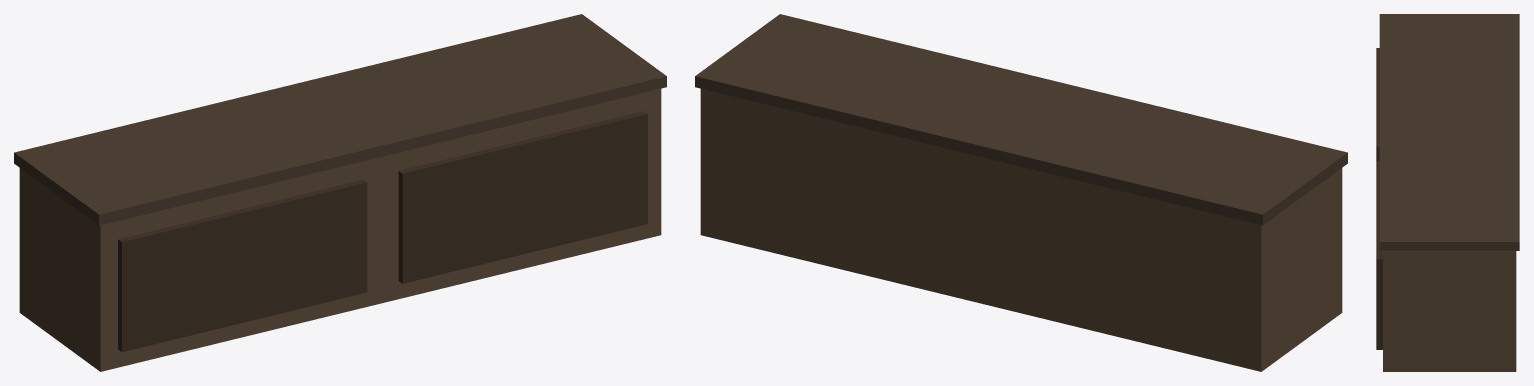
The model's file is tv_cabinet.glb.
3 views of the same model, side by side, from view 1: azimuth 30°, elevation 25°; view 2: azimuth 150°, elevation 25°; view 3: azimuth 270°, elevation 25° (orthographic). The views are drawn at different scales.
Visible parts, largest first — view 1: furniture; view 2: furniture; view 3: furniture.
Part boxes in pixels (x1,y1,x2,y2): furniture: (14,14,666,371); furniture: (695,14,1347,371); furniture: (1376,14,1519,371).
Size of the model in its own units: 1.62 by 0.435 by 0.43.
